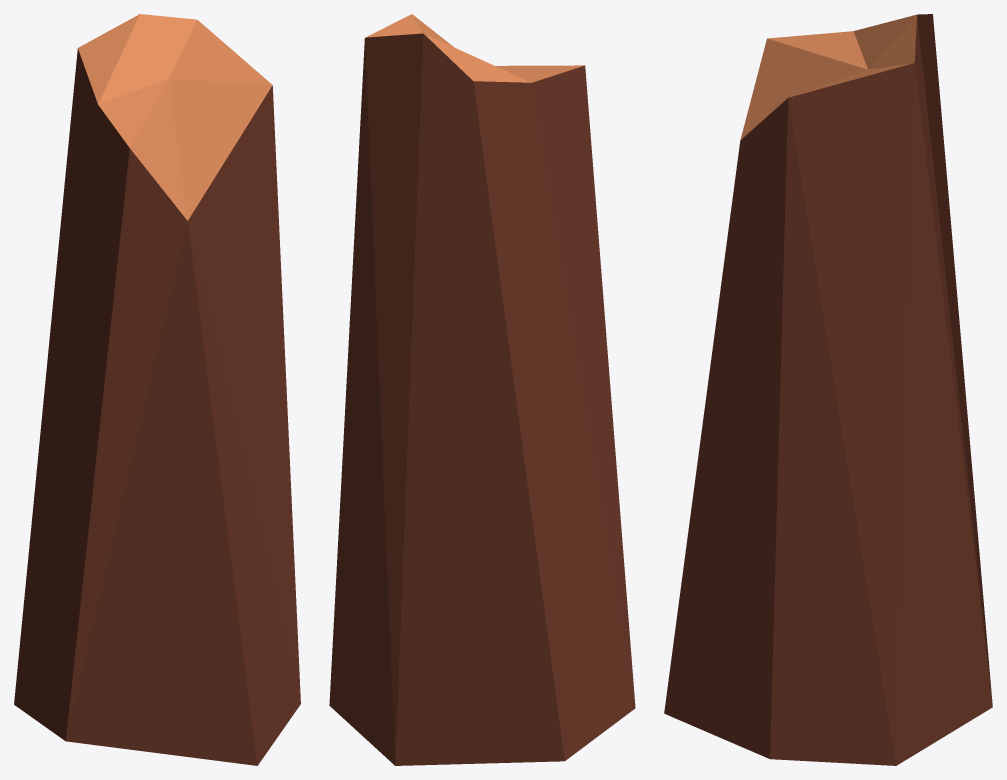
The model's file is pine_trunk_type_9_LOD3.fbx.
3 renders of one model, left to right at view 1: azimuth 30°, elevation 25°; view 2: azimuth 150°, elevation 25°; view 3: azimuth 270°, elevation 25°, orthographic. The views are drawn at different scales.
Visible parts, largest first — view 1: pt_type_9; view 2: pt_type_9; view 3: pt_type_9.
Part boxes in pixels (x1,y1,x2,y2): pt_type_9: [14, 14, 300, 765]; pt_type_9: [329, 14, 635, 765]; pt_type_9: [664, 14, 992, 765].
Bounding box in the file's own units: 139 × 374 × 159.
